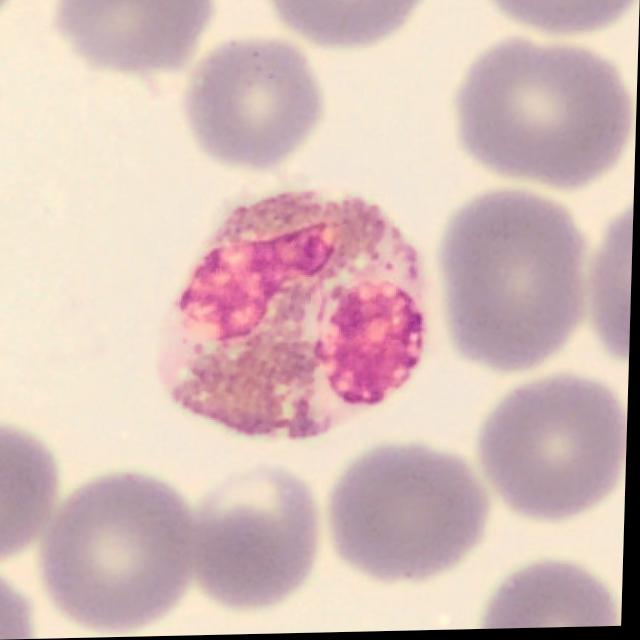Eosinofilo: (159, 193, 430, 441)
